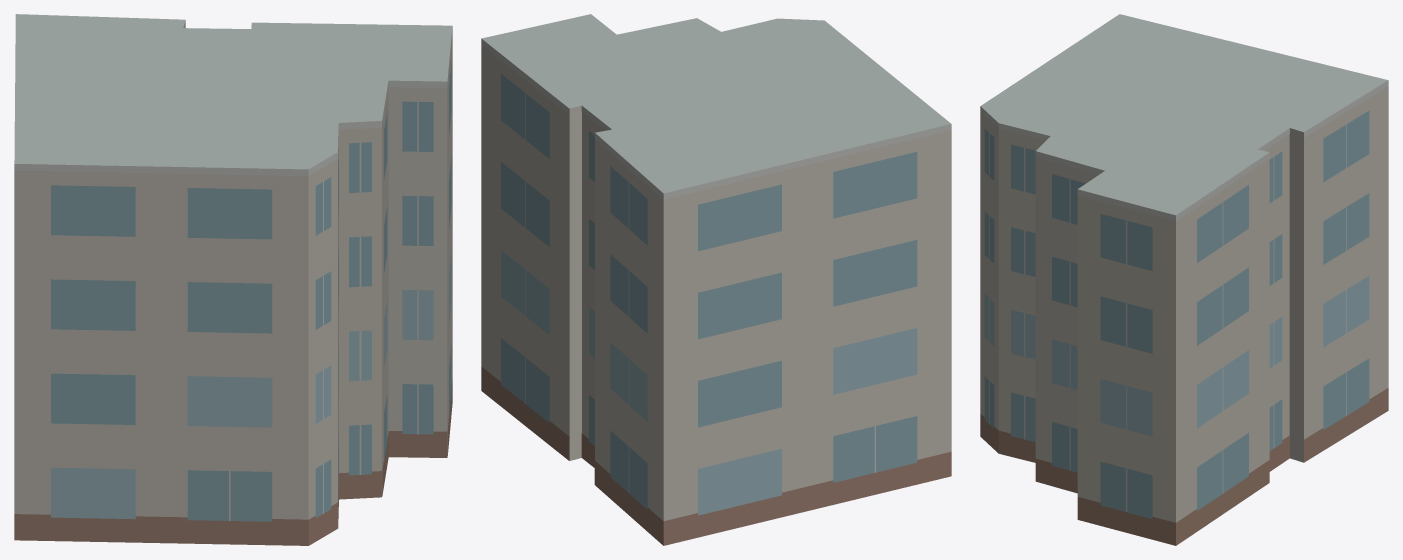
File: survey-upis-32665318.glb
3 renders of one model, left to right at view 1: azimuth 30°, elevation 25°; view 2: azimuth 150°, elevation 25°; view 3: azimuth 270°, elevation 25°, orthographic. The views are drawn at different scales.
Parts seen in each view (by area): view 1: survey-upis-32665318.tmp; view 2: survey-upis-32665318.tmp; view 3: survey-upis-32665318.tmp.
Part boxes in pixels (left/top/right/bottom): survey-upis-32665318.tmp: left=14, top=14, right=452, bottom=545; survey-upis-32665318.tmp: left=481, top=14, right=951, bottom=545; survey-upis-32665318.tmp: left=980, top=14, right=1388, bottom=545.
Bounding box in the file's own units: 18.05 × 13.8 × 15.45.
